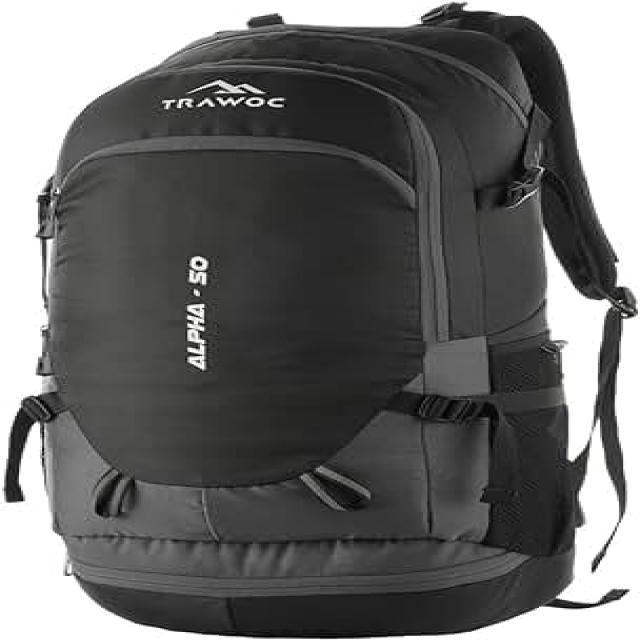backpack: (5, 5, 640, 640)
